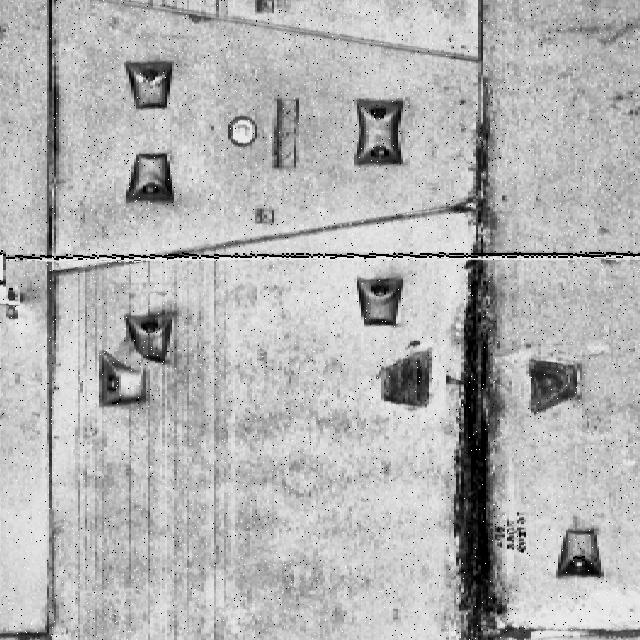leakage: (442, 91, 515, 640)
